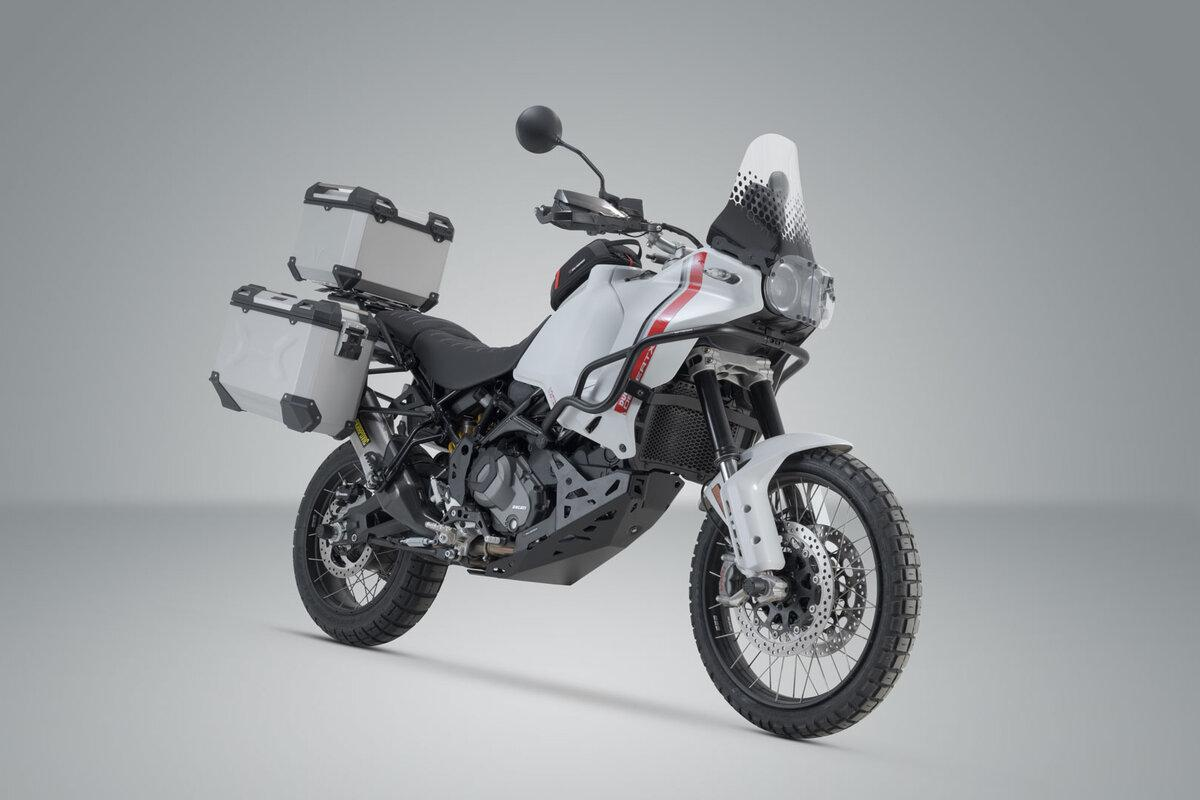engine-chasis: (425, 375, 686, 585)
exhaust: (373, 460, 435, 539), (349, 412, 399, 482), (450, 542, 514, 569)
frontside: (536, 134, 853, 608)
handlebar: (515, 105, 704, 271)
motorbike: (209, 104, 922, 740)
rearside: (209, 181, 498, 523), (316, 494, 460, 566)
seat: (376, 310, 552, 390)
tank: (513, 264, 624, 410), (550, 238, 642, 311)
wheel: (689, 446, 922, 740), (292, 439, 448, 646), (701, 468, 732, 546)
